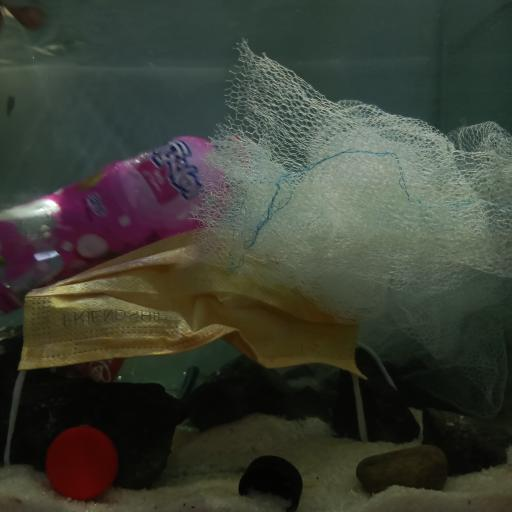bottle_cap: (43, 424, 118, 502), (238, 453, 304, 512)
mask: (17, 230, 388, 398)
net: (187, 36, 512, 418)
plastic_bottle: (0, 130, 251, 318), (70, 346, 206, 392)
